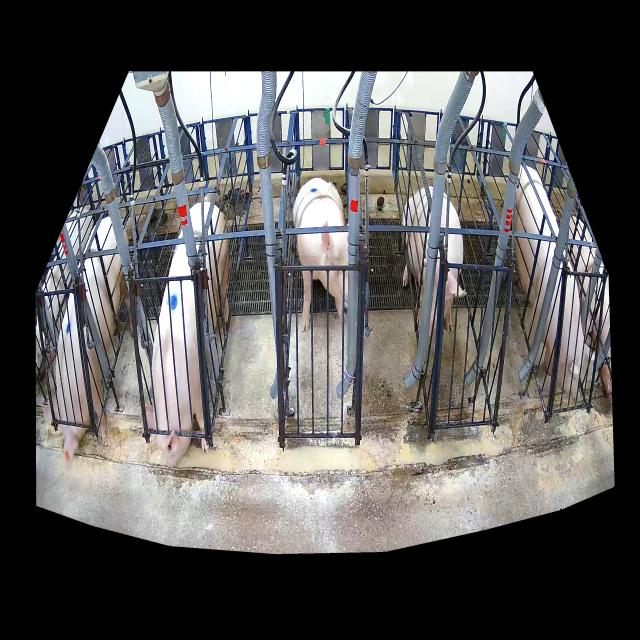pig: (146, 202, 229, 468), (53, 218, 133, 466), (514, 165, 590, 402), (403, 187, 466, 337), (293, 177, 348, 332)
